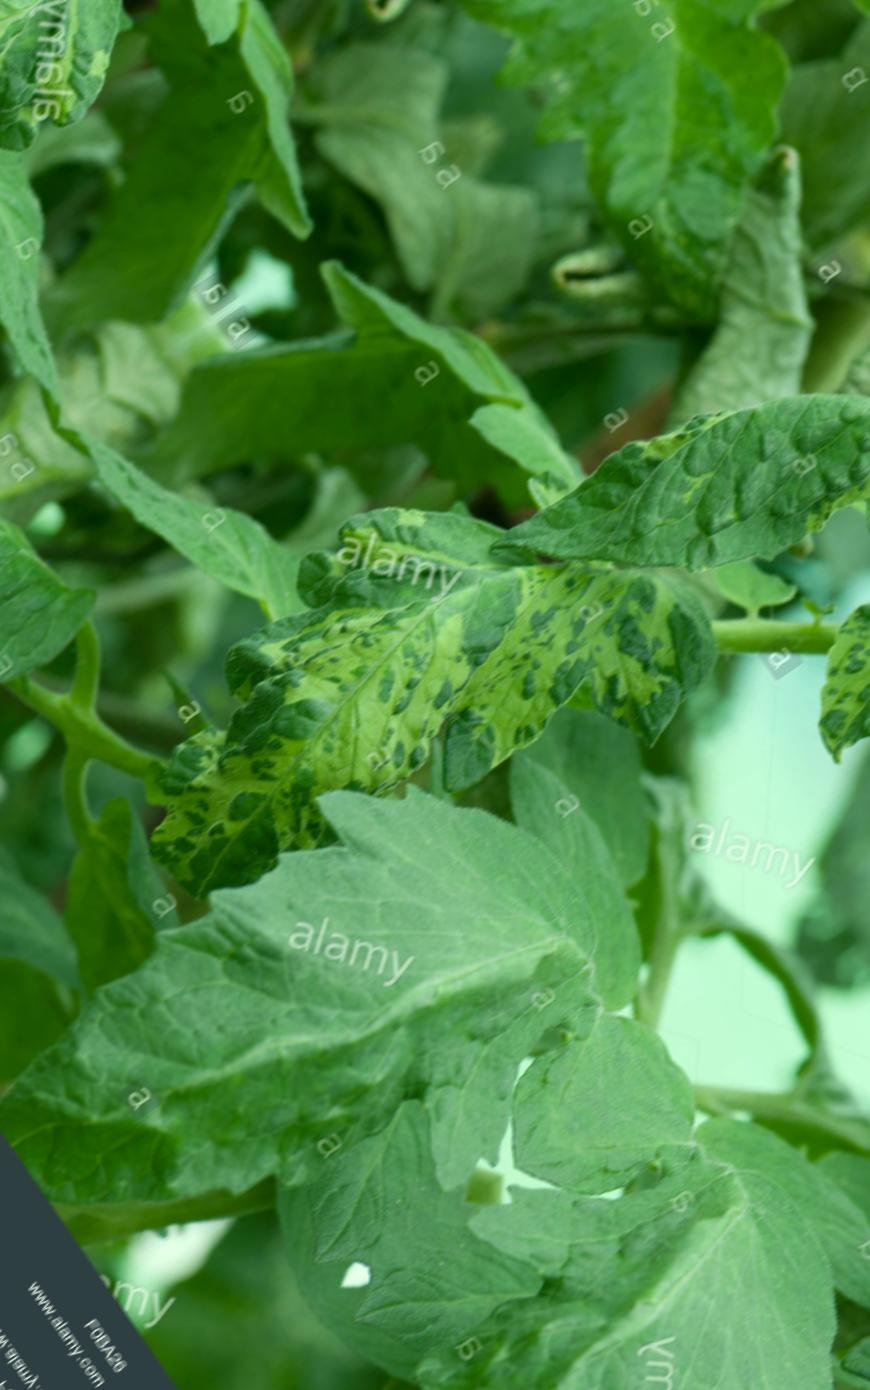Tomato leaf mosaic virus: (55, 355, 777, 989), (0, 685, 692, 1336), (485, 213, 870, 787), (738, 543, 870, 810)
